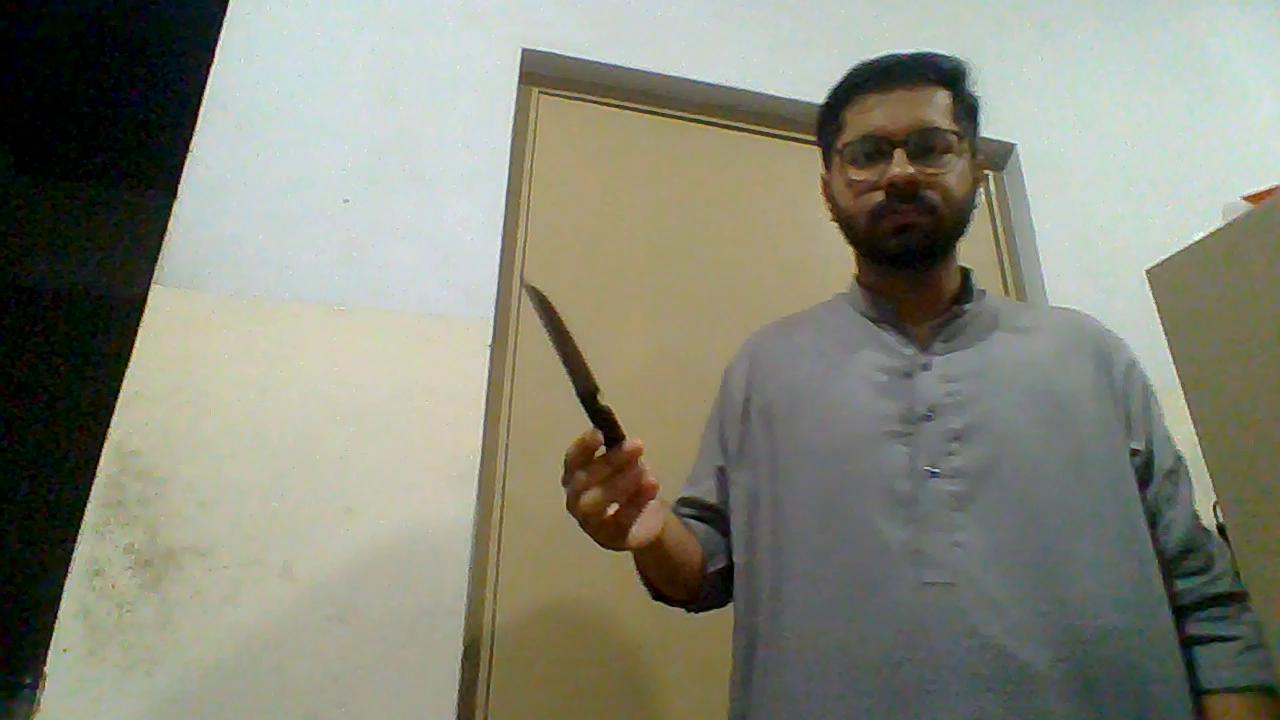criminal: (514, 50, 1280, 720)
weapon: (517, 274, 630, 454)
